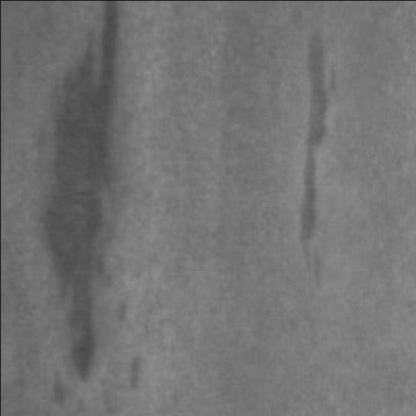inclusion: (39, 4, 131, 393), (291, 13, 345, 291), (121, 347, 154, 395)
